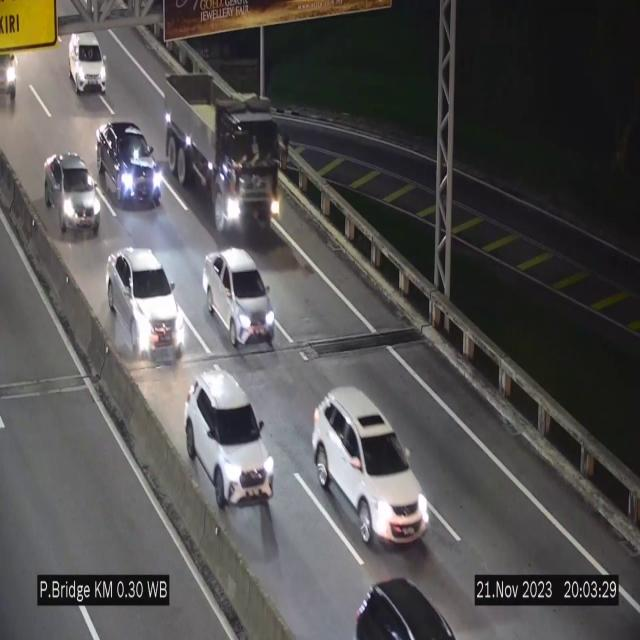Car: (312, 388, 428, 546), (186, 371, 274, 505), (347, 560, 463, 640), (106, 249, 184, 363), (202, 249, 275, 352), (97, 118, 163, 205), (46, 153, 100, 235), (68, 32, 106, 93)
Truck: (164, 72, 281, 236)
